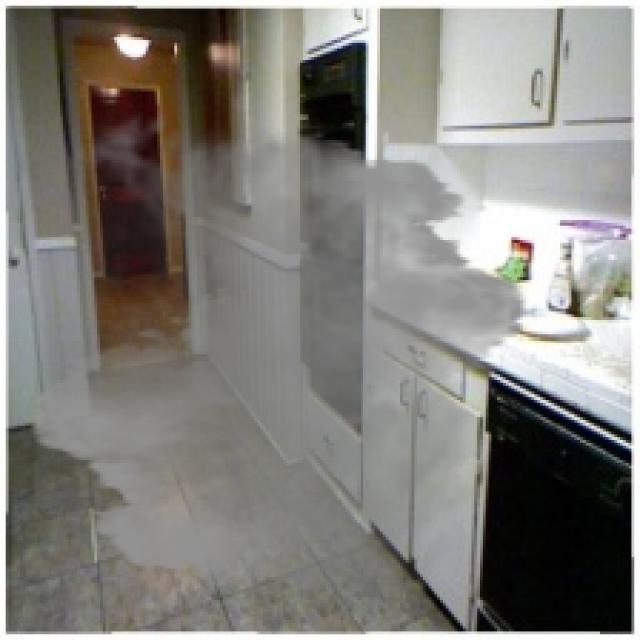smoke: (14, 97, 543, 617)
